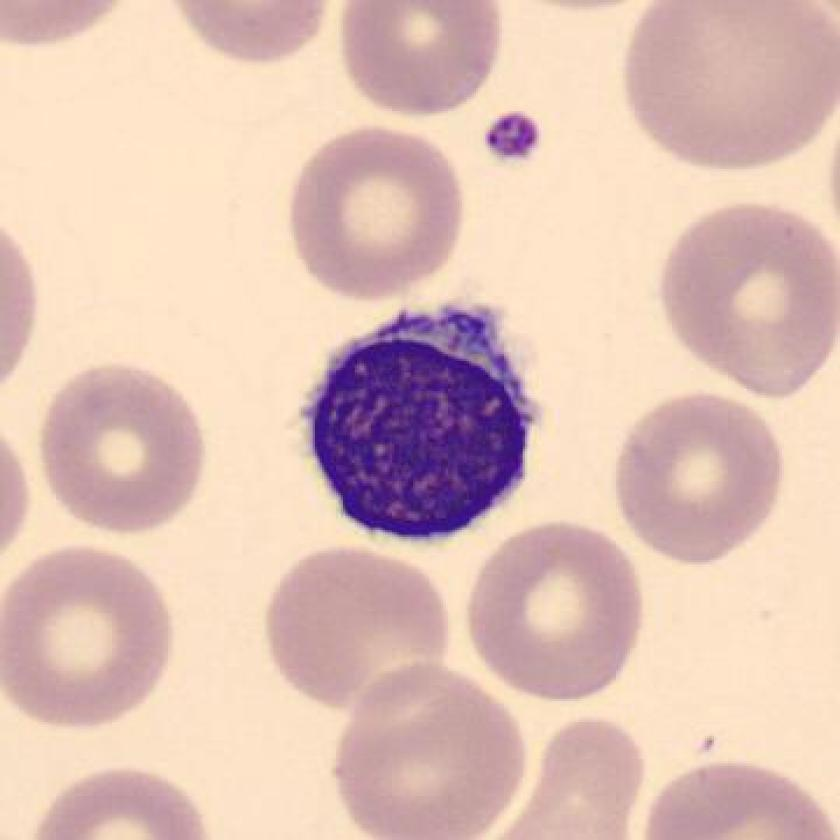lymphocyte: (286, 284, 549, 564)
